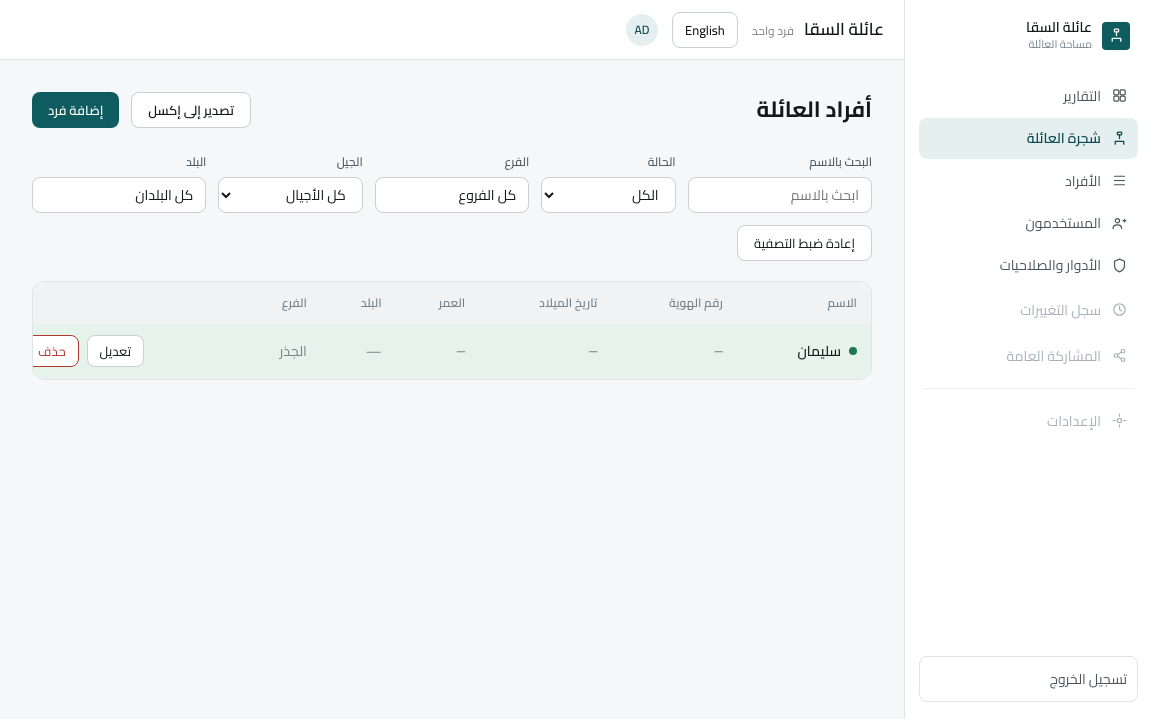
MembersPage › closes the edit form and refreshes data on a concurrency conflict
Expected: the text "سليمان" is shown, [797, 340, 841, 363]
Click the button "تعديل" at (115,351), box [87, 335, 144, 367]
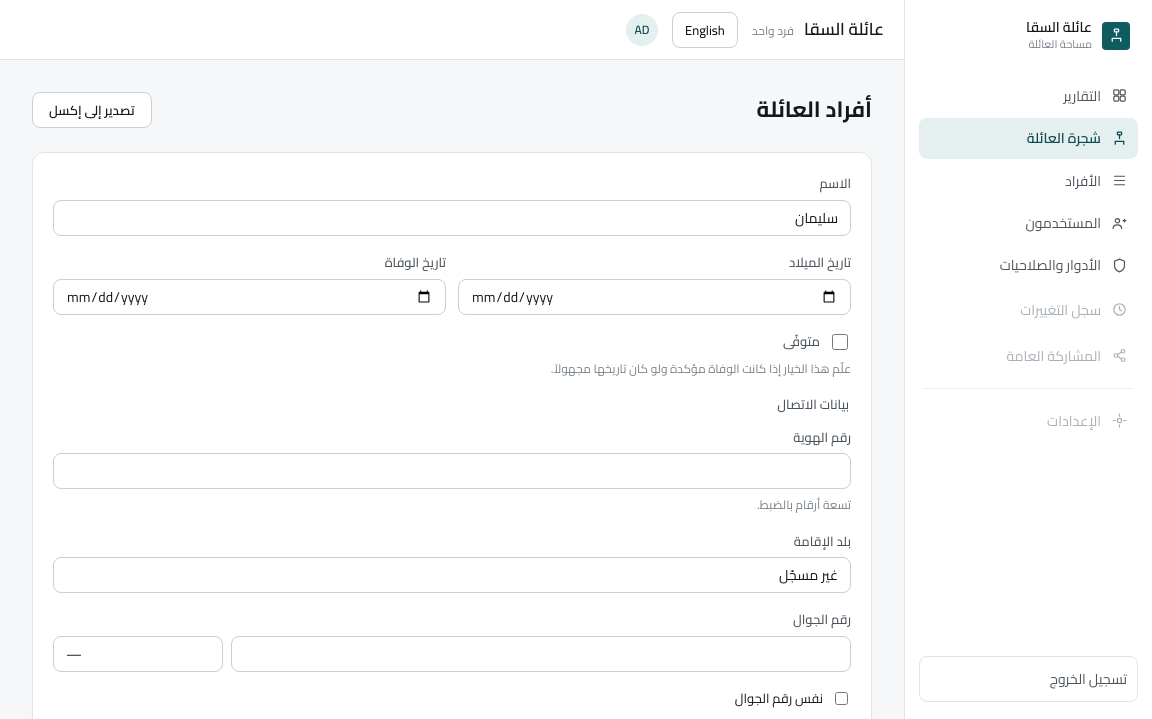
Replace the text in the field labelled "الاسم" with "سليمان أحمد" at (452,218), box [53, 200, 851, 236]
(page scrolled)
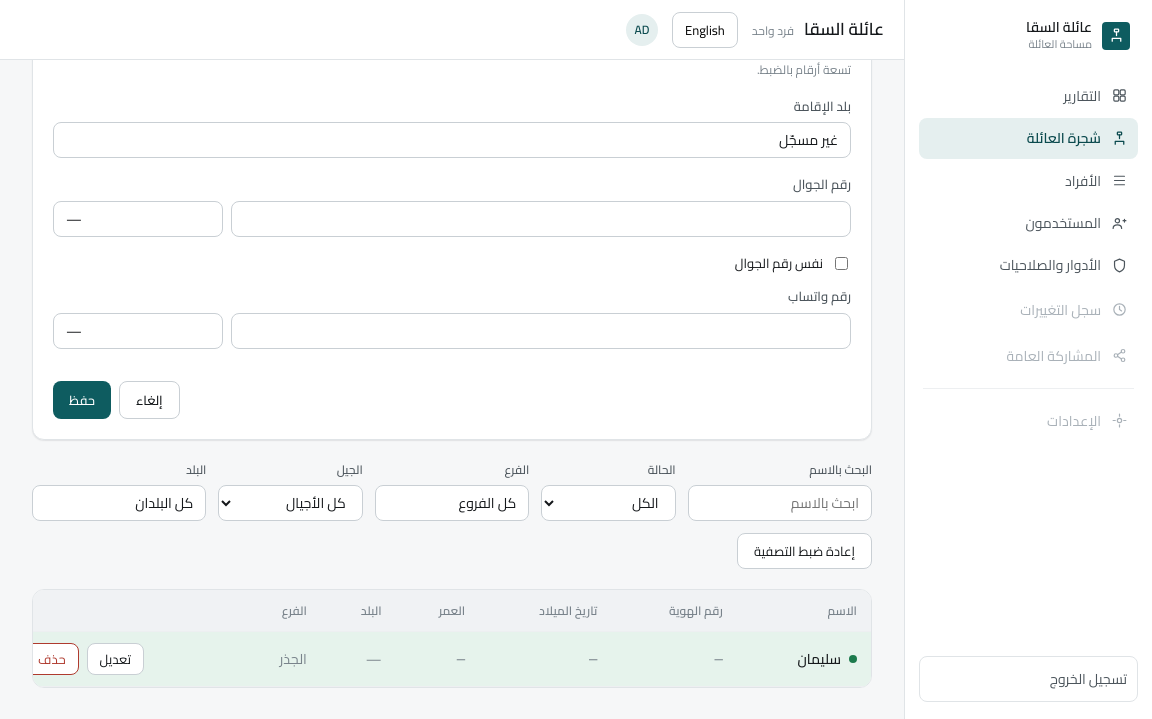
Click the button "حفظ" at (82,400), box [53, 381, 111, 419]
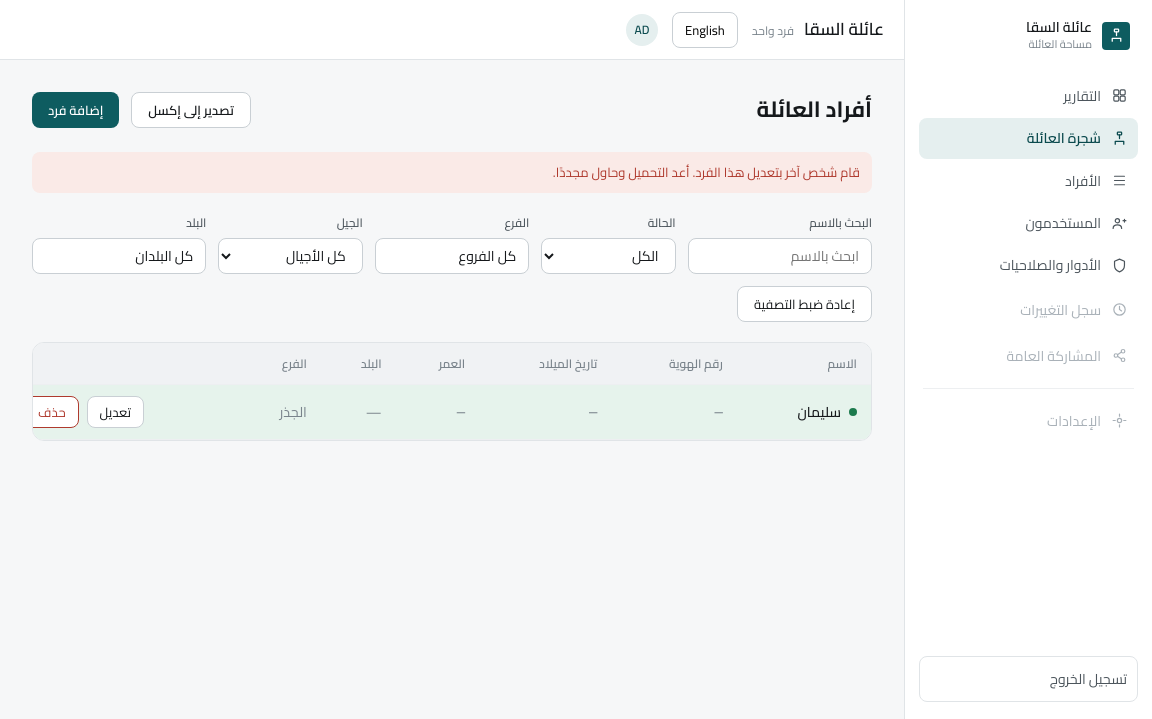
Now the text "قام شخص آخر بتعديل هذا الفرد. أعد التحميل وحاول مجددًا." is shown, box [32, 152, 872, 193]
